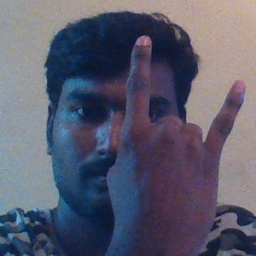V: (106, 32, 248, 244)
